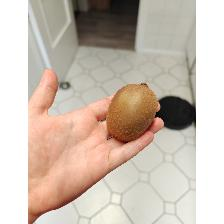Kiwi: (106, 81, 158, 143)
